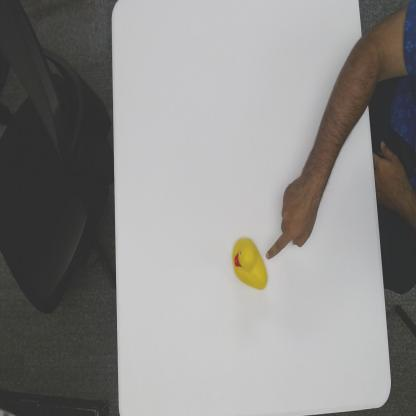Arm: (309, 32, 370, 192)
Duck: (232, 233, 268, 291)
Hand: (265, 172, 319, 262)
